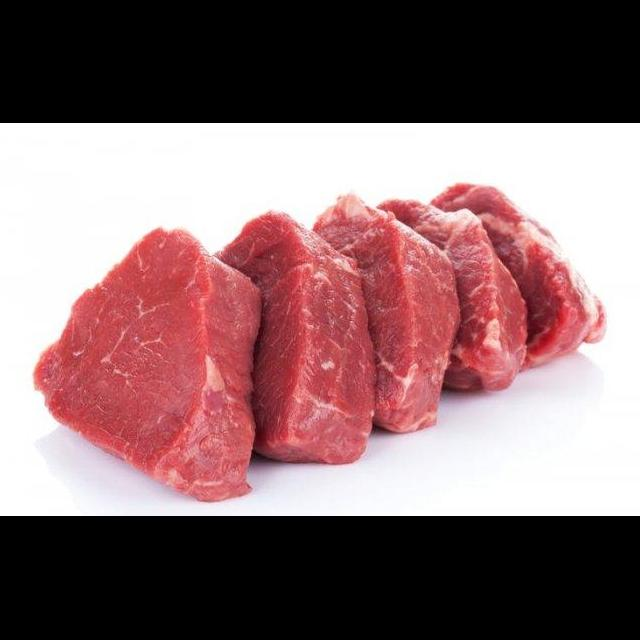beef: (0, 215, 271, 508), (213, 199, 388, 491), (274, 186, 466, 441), (415, 176, 627, 364), (390, 185, 535, 406)
